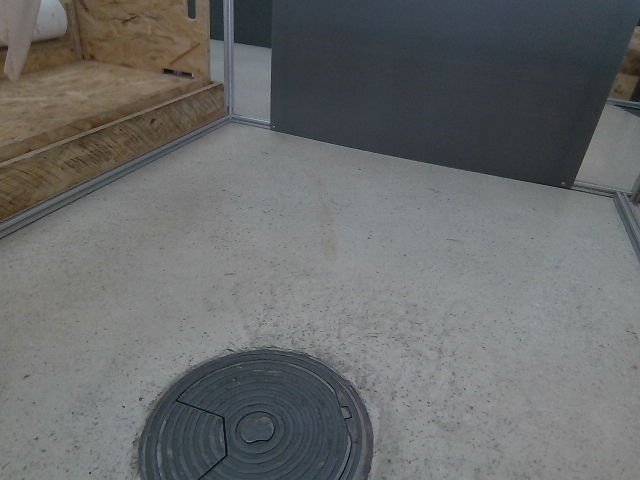curtain: (0, 0, 51, 72)
